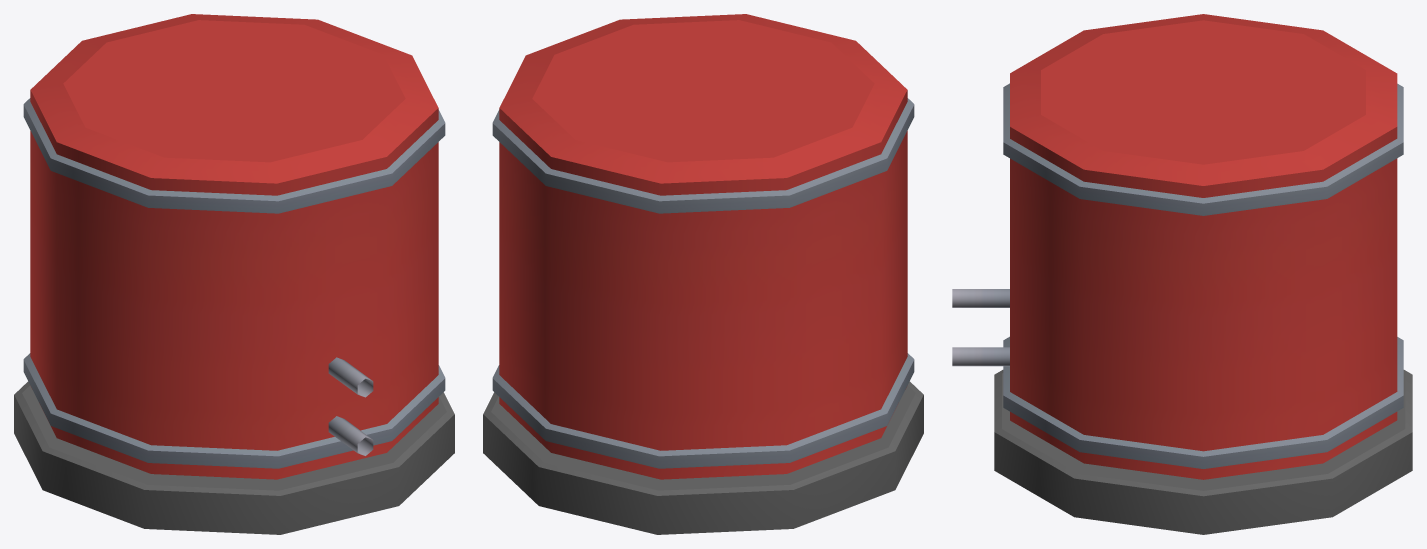
Rendered from GasTank_2_B.fbx.
3 renders of one model, left to right at view 1: azimuth 30°, elevation 25°; view 2: azimuth 150°, elevation 25°; view 3: azimuth 270°, elevation 25°, orthographic.
Parts seen in each view (by area): view 1: GasTank_2_B; view 2: GasTank_2_B; view 3: GasTank_2_B.
Part boxes in pixels (x1,y1,x2,y2): GasTank_2_B: [14, 14, 454, 534]; GasTank_2_B: [483, 14, 923, 534]; GasTank_2_B: [952, 14, 1412, 534].
Bounding box in the file's own units: 900 × 790 × 942.
